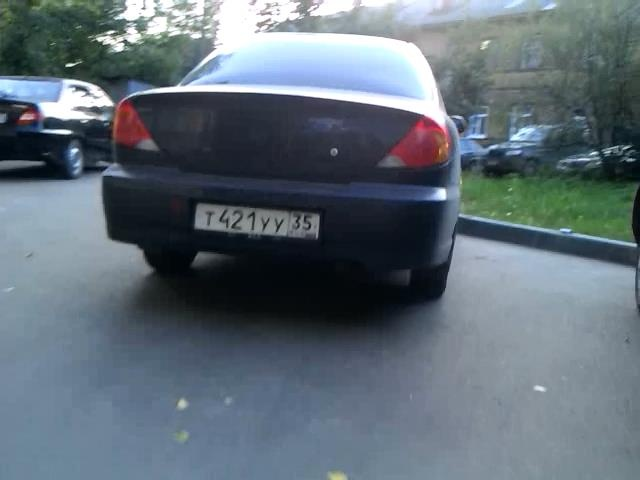car license plate: (193, 200, 322, 247)
